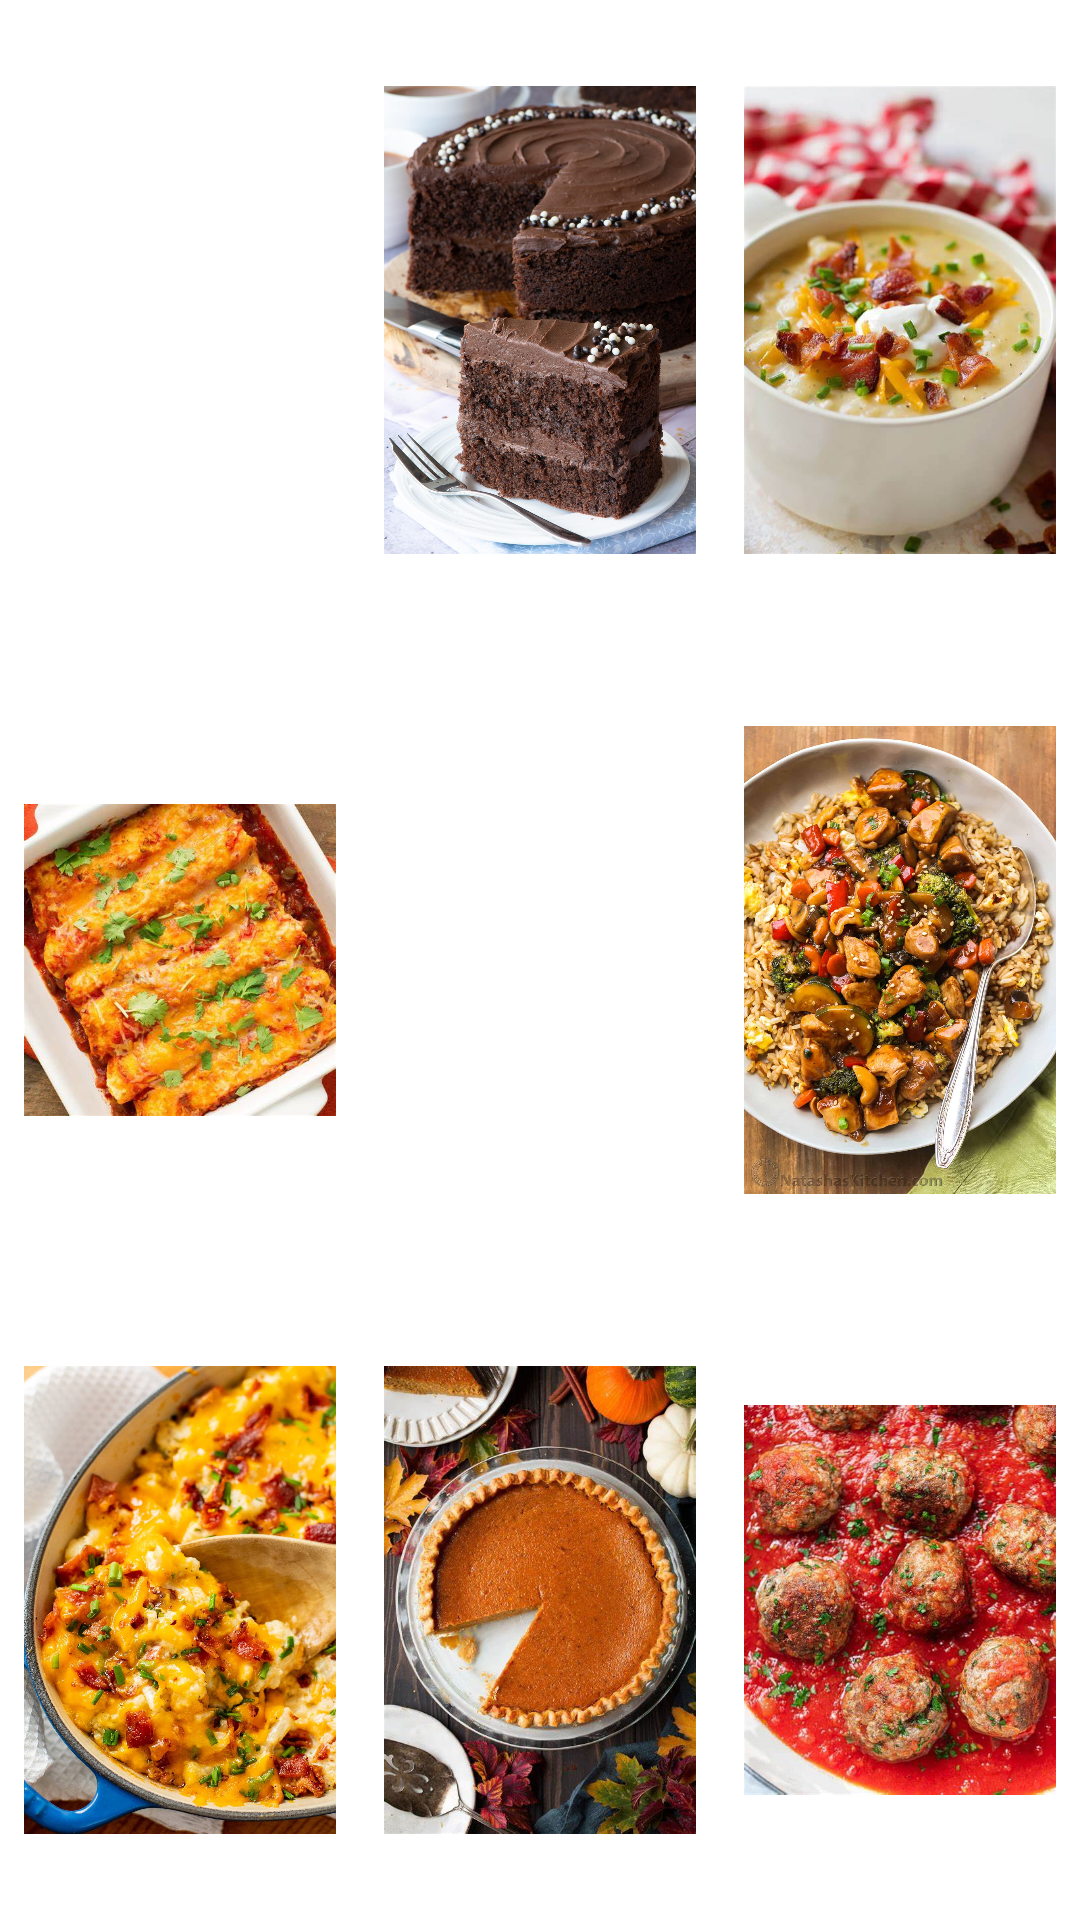

Where to tap for icons on this 1080w x 1920h app screen, as [x,y]:
Chicken Enchiladas: [180,960]
